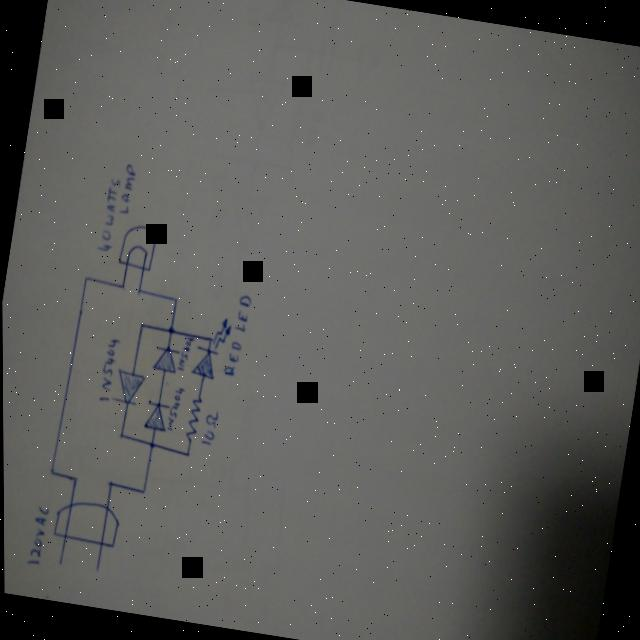diode: (188, 314, 232, 382), (109, 369, 145, 407), (149, 344, 179, 376), (141, 399, 170, 432)
junction: (165, 326, 174, 337), (147, 439, 155, 450), (69, 475, 76, 486), (105, 478, 112, 489), (137, 321, 144, 332), (134, 286, 141, 297), (81, 273, 88, 284), (47, 468, 54, 478), (182, 450, 189, 460), (118, 282, 125, 292), (171, 296, 178, 304), (139, 488, 145, 497), (116, 432, 123, 439)
resistor: (182, 393, 204, 445)
terminal: (55, 559, 62, 570), (92, 565, 98, 575)
text: (221, 294, 252, 379), (94, 178, 120, 254), (23, 503, 49, 571), (95, 337, 119, 404), (116, 164, 137, 216), (163, 386, 184, 434), (197, 410, 220, 450), (174, 336, 194, 374)
